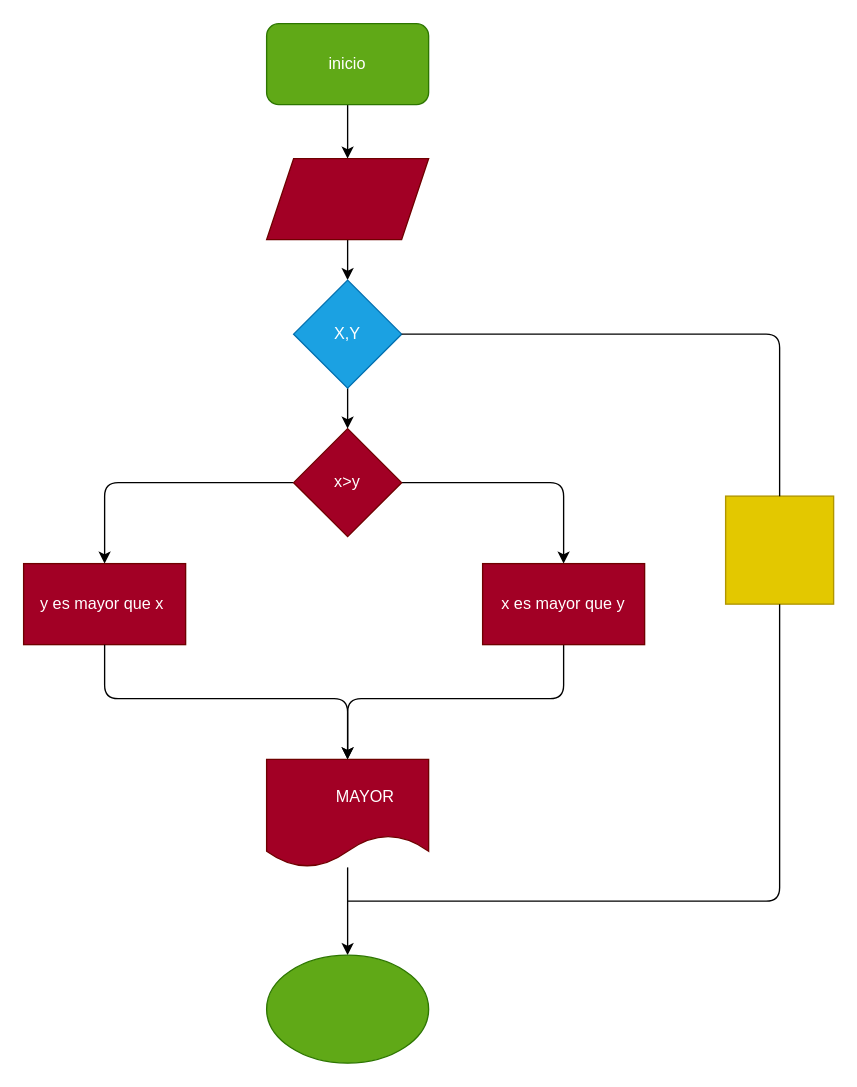
The diagram is 857 pixels wide and 1087 high, and some of its shapes have lost their labels. Each missing label, with the box of its shape:
FIN: (265, 954, 429, 1063)
SON IGUALES: (724, 495, 834, 604)
X.Y: (265, 157, 429, 240)
